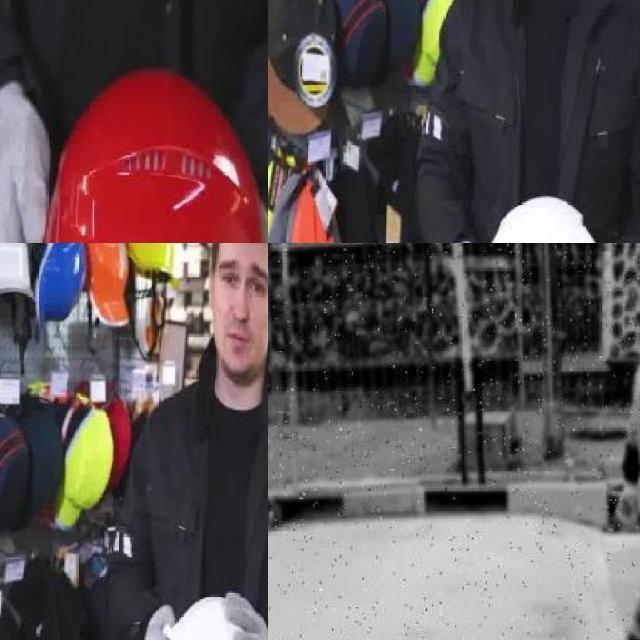apron: (0, 86, 51, 243), (222, 592, 268, 640), (608, 475, 640, 530), (145, 604, 181, 640)
